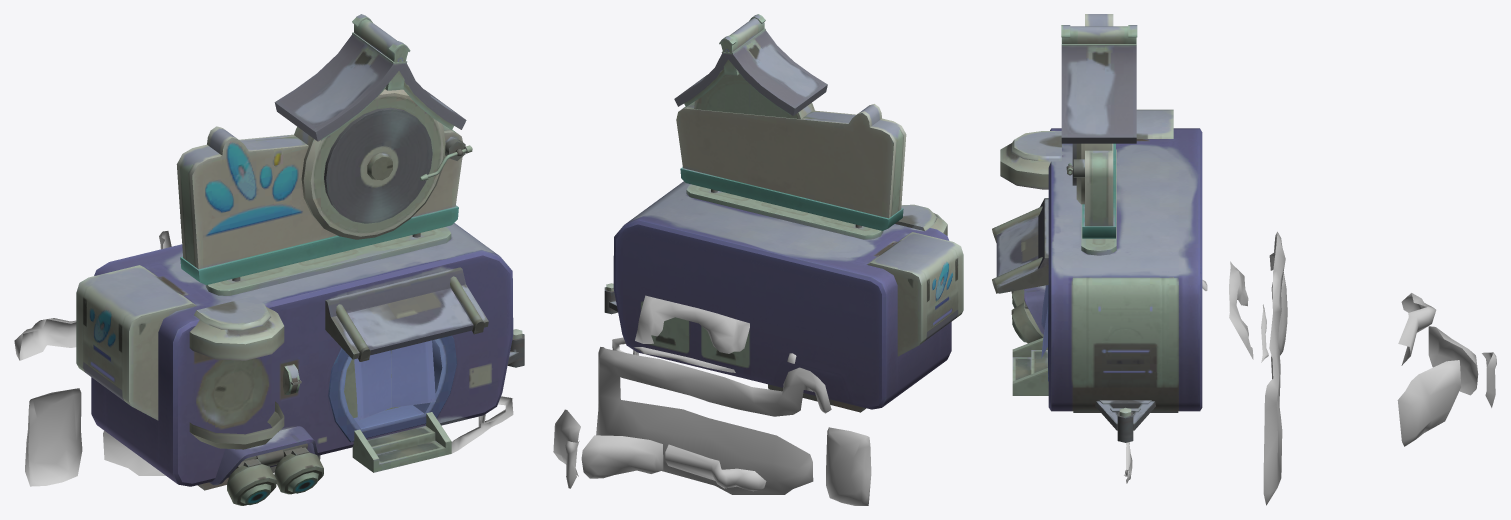
Rendered from pref_sm_city_bornbus01_snow_lv3.fbx.
3 views of the same model, side by side, from view 1: azimuth 30°, elevation 25°; view 2: azimuth 150°, elevation 25°; view 3: azimuth 270°, elevation 25° (orthographic). The views are drawn at different scales.
Visible parts, largest first — view 1: sm_city_bornbus01_snow_lv3, sm_city_bornbus01b_snow_lv3; view 2: sm_city_bornbus01_snow_lv3, sm_city_bornbus01b_snow_lv3; view 3: sm_city_bornbus01_snow_lv3, sm_city_bornbus01b_snow_lv3.
Part boxes in pixels (bbox=[...]): sm_city_bornbus01_snow_lv3: bbox=[76, 14, 524, 505]; sm_city_bornbus01b_snow_lv3: bbox=[14, 231, 513, 486]; sm_city_bornbus01_snow_lv3: bbox=[604, 14, 963, 412]; sm_city_bornbus01b_snow_lv3: bbox=[553, 295, 871, 505]; sm_city_bornbus01_snow_lv3: bbox=[992, 14, 1202, 442]; sm_city_bornbus01b_snow_lv3: bbox=[1124, 231, 1496, 505].
Bounding box in the file's own units: 8.39 × 9.42 × 9.55.
